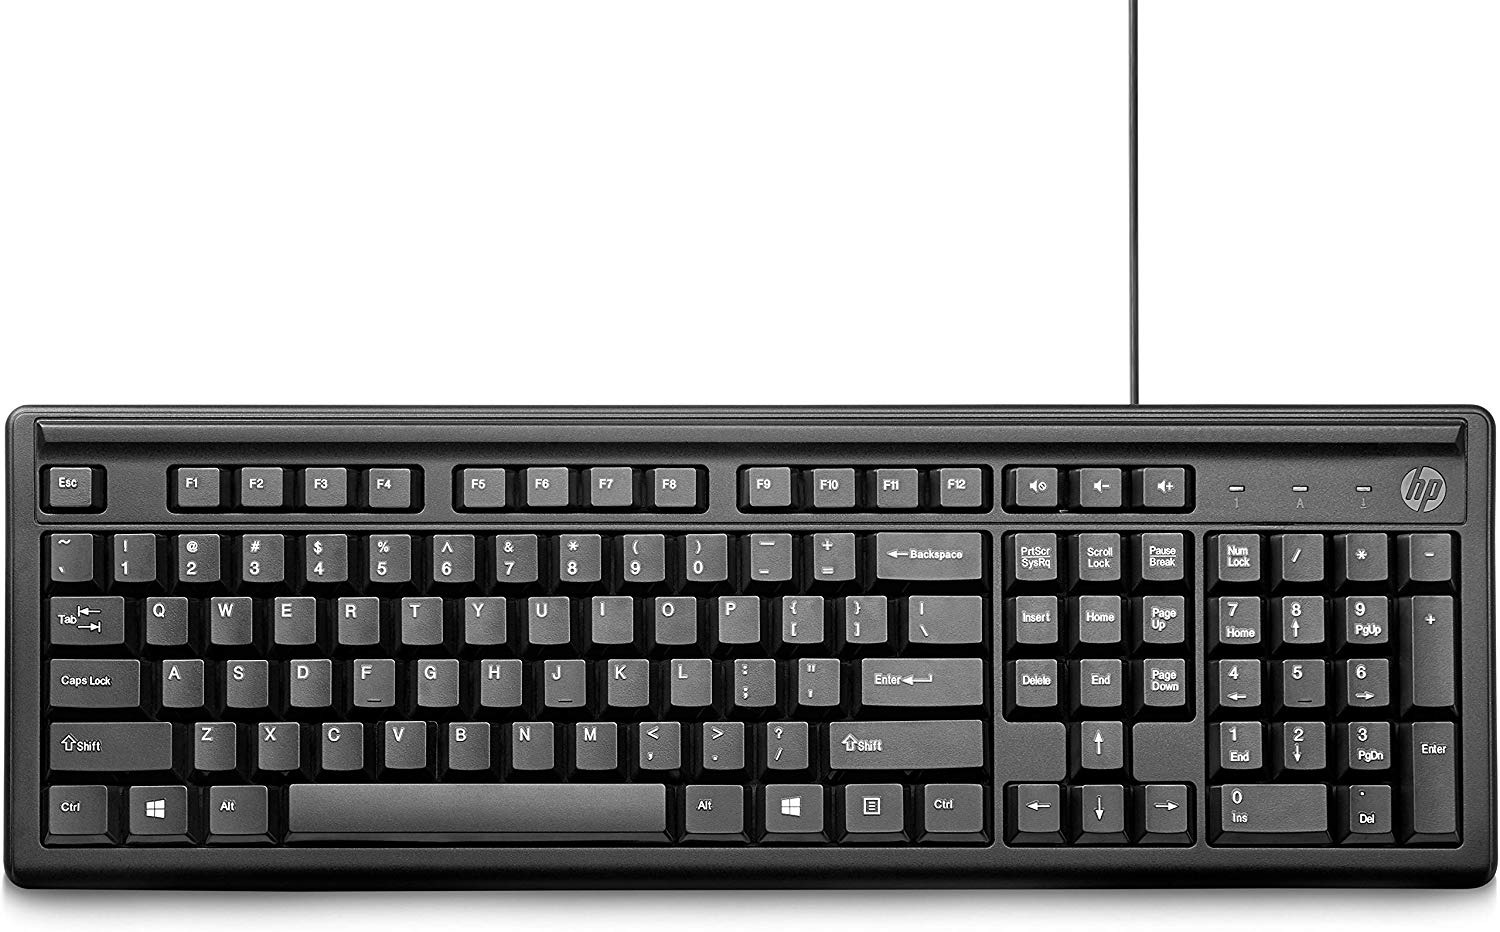keyboard: (9, 397, 1488, 894)
